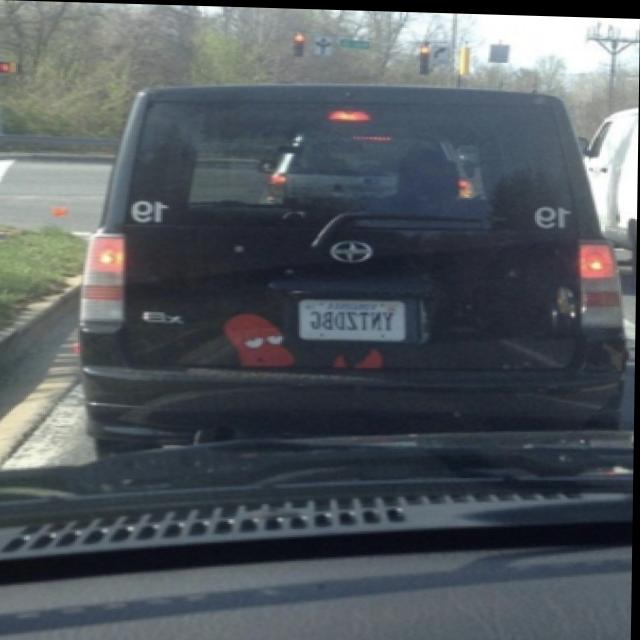licence: (300, 297, 407, 338)
